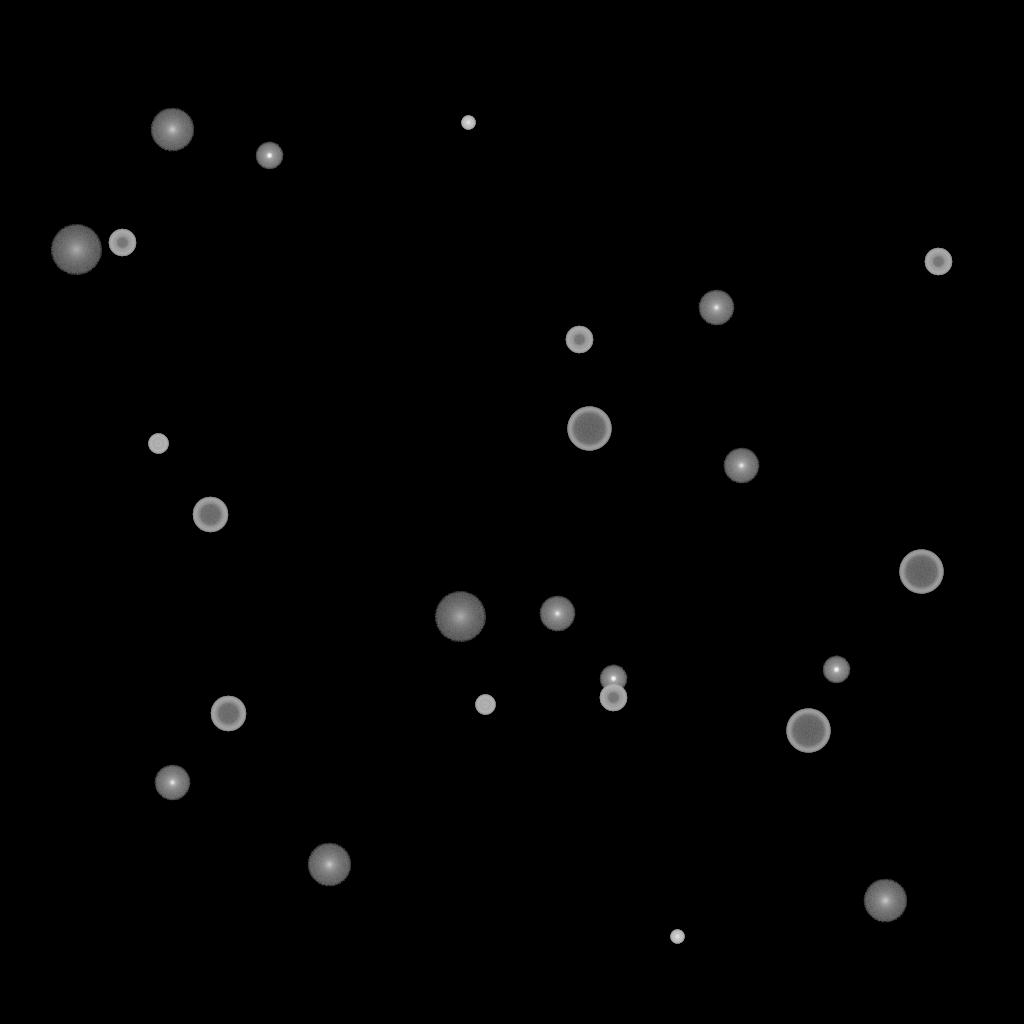depth:-10: (255, 142, 283, 170), (822, 656, 850, 684), (599, 665, 627, 693)
depth:-30: (461, 116, 475, 130), (670, 930, 684, 944)
depth:-40: (475, 695, 495, 715), (148, 434, 168, 454)
depth:-50: (924, 248, 952, 276), (108, 229, 136, 257), (599, 684, 627, 712), (565, 326, 593, 354)
depth:-60: (210, 696, 246, 732), (192, 497, 228, 533)
depth:-70: (786, 709, 830, 753), (567, 407, 611, 451), (899, 550, 943, 594)
depth:0: (154, 765, 190, 801), (723, 448, 759, 484), (698, 290, 734, 326), (539, 596, 575, 632)
depth:10: (150, 108, 194, 152), (307, 843, 351, 887), (863, 879, 907, 923)
depth:20: (434, 592, 486, 642), (50, 225, 102, 275)
